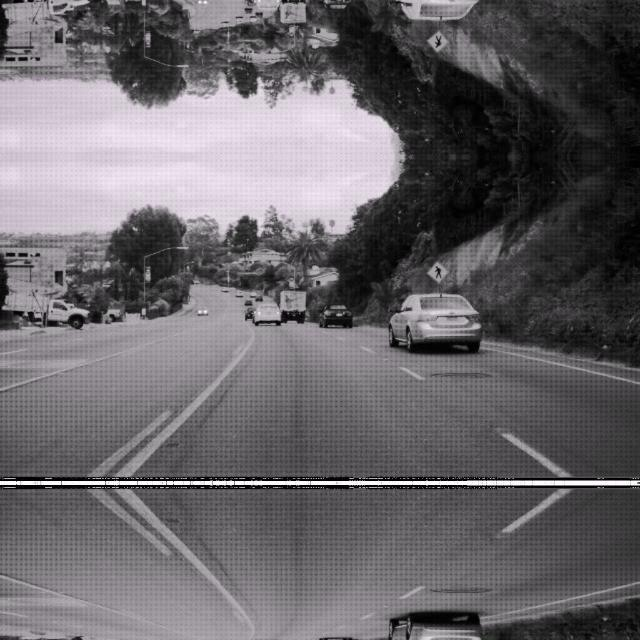pedestrianCrossing: (426, 29, 448, 52), (426, 260, 448, 282)
